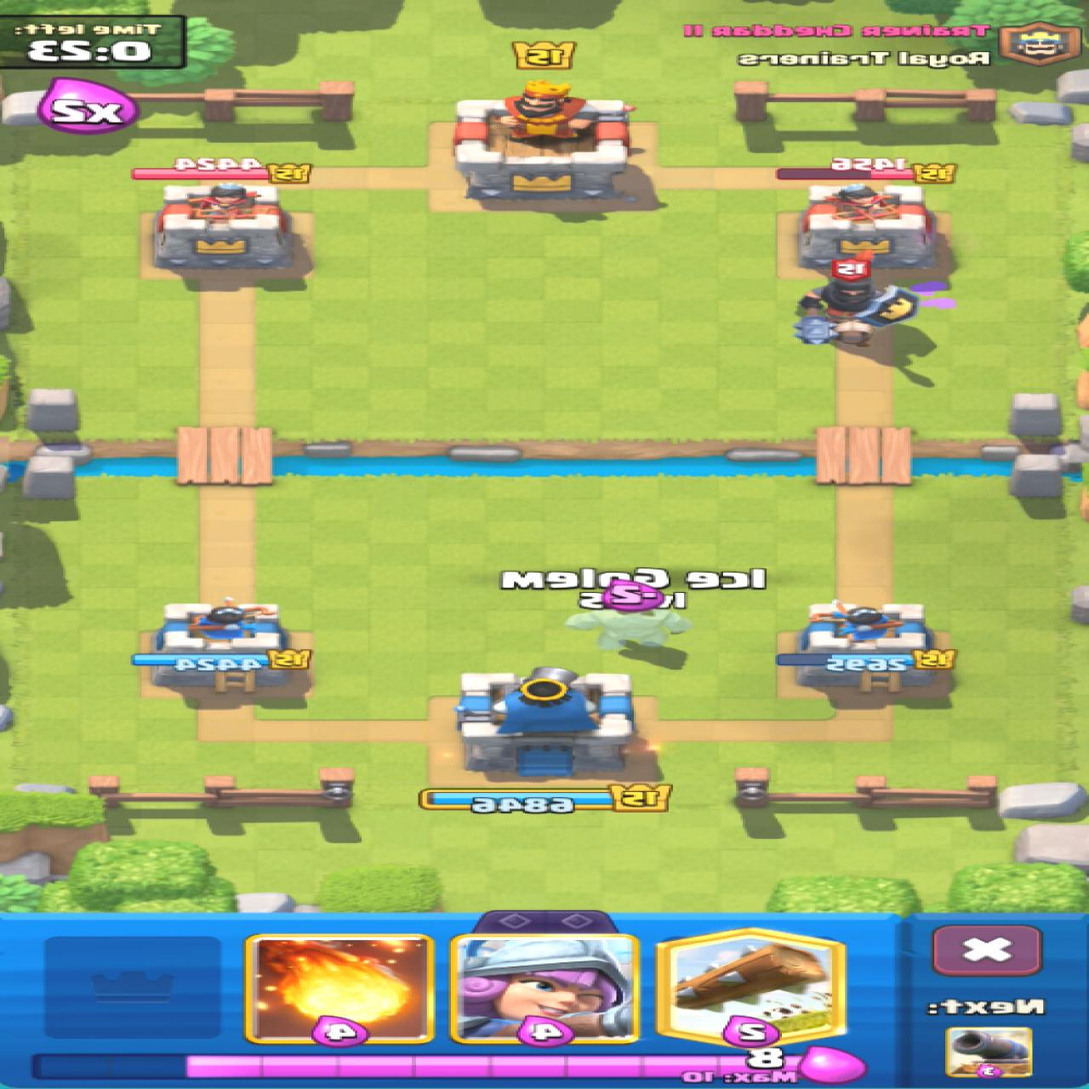Enemy-DarkPrince-Shield: (795, 254, 917, 346)
Enemy-KingTower: (455, 81, 634, 198)
Enemy-PrincessTower: (157, 184, 298, 279), (799, 185, 937, 268)
